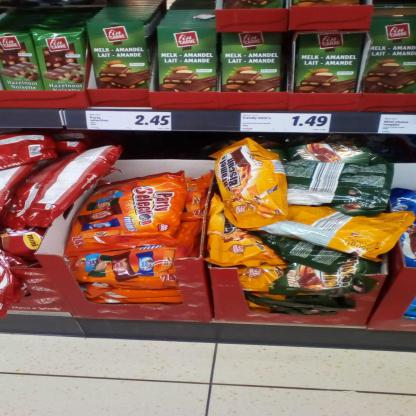prtg: (241, 113, 333, 134), (86, 111, 173, 132), (379, 115, 416, 135)
